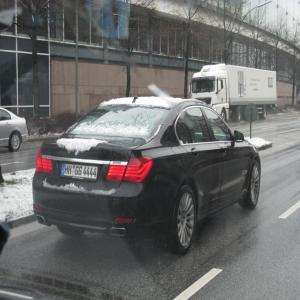Vehicle-registration-plate: (61, 162, 99, 184)
